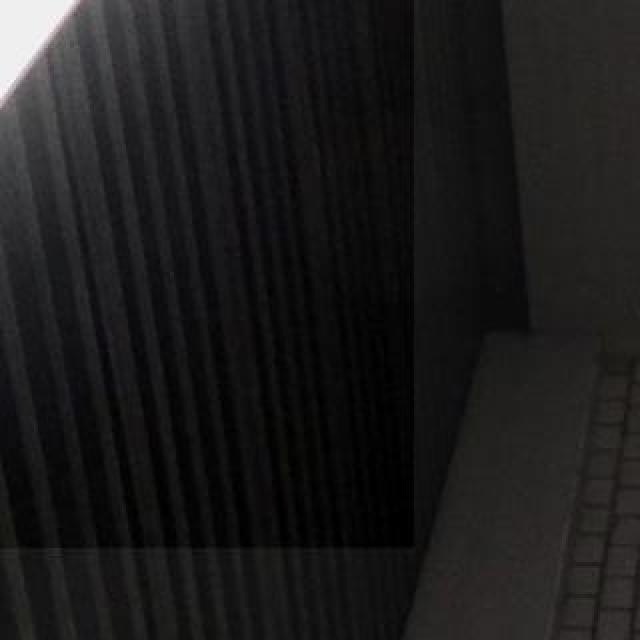fluorescent tube: (0, 0, 414, 560)
